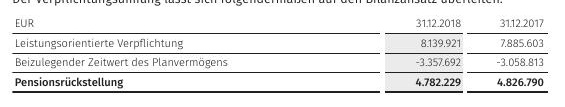table: (0, 0, 565, 107)
